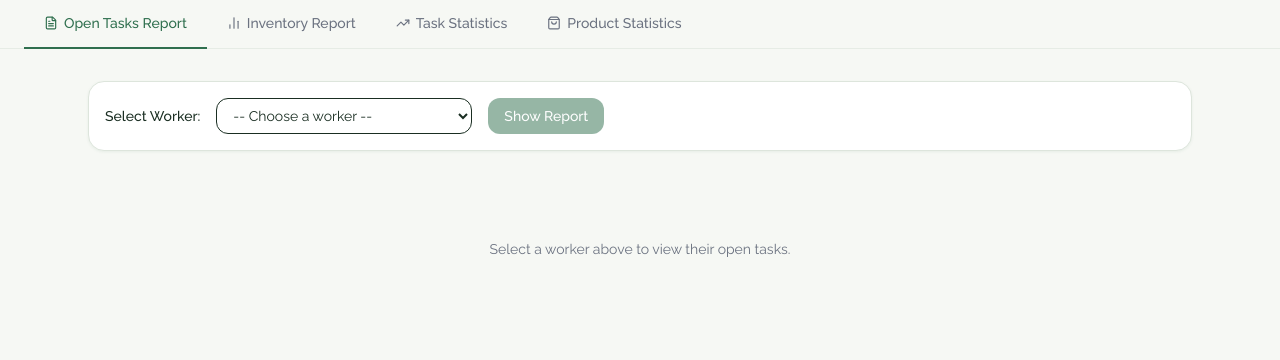
Test case: TasksReportPage › shows tasks after clicking Show Report
Step 1. Select "Field Worker" in the dropdown → coordinates (344, 116), box x1=216 y1=98 x2=472 y2=134
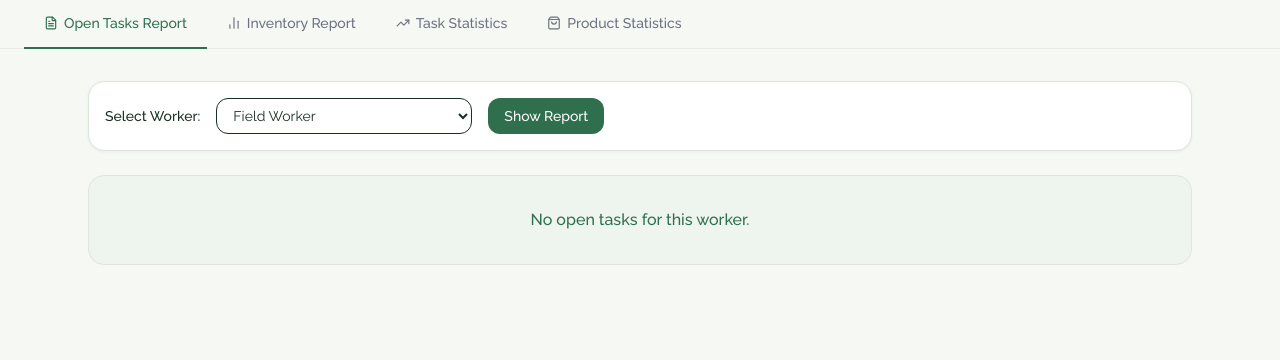
Step 2. Click the button "Show Report" → coordinates (546, 116), box x1=488 y1=98 x2=604 y2=134
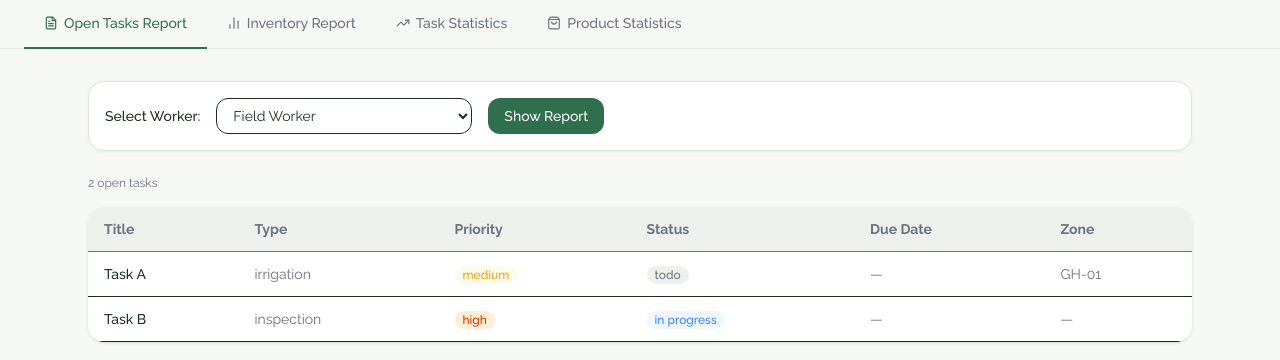
Now the text "Task A" is shown, box x1=88 y1=252 x2=238 y2=296
Now the text "Task B" is shown, box x1=88 y1=296 x2=238 y2=342
